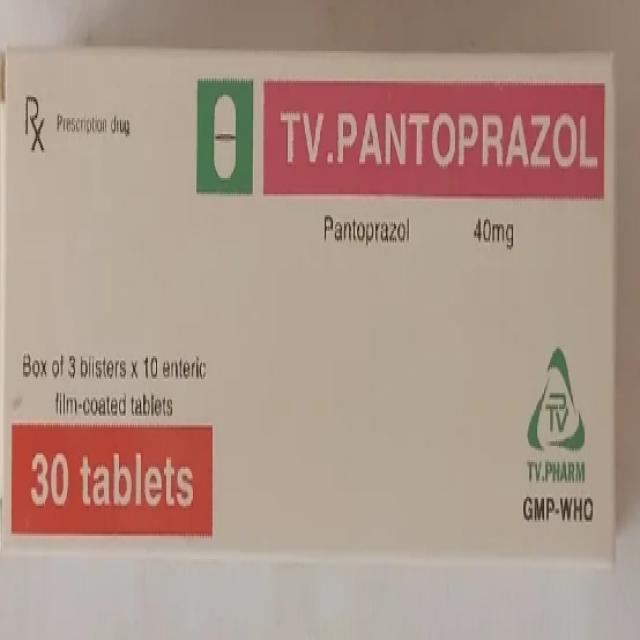drug-name: (272, 97, 600, 173)
